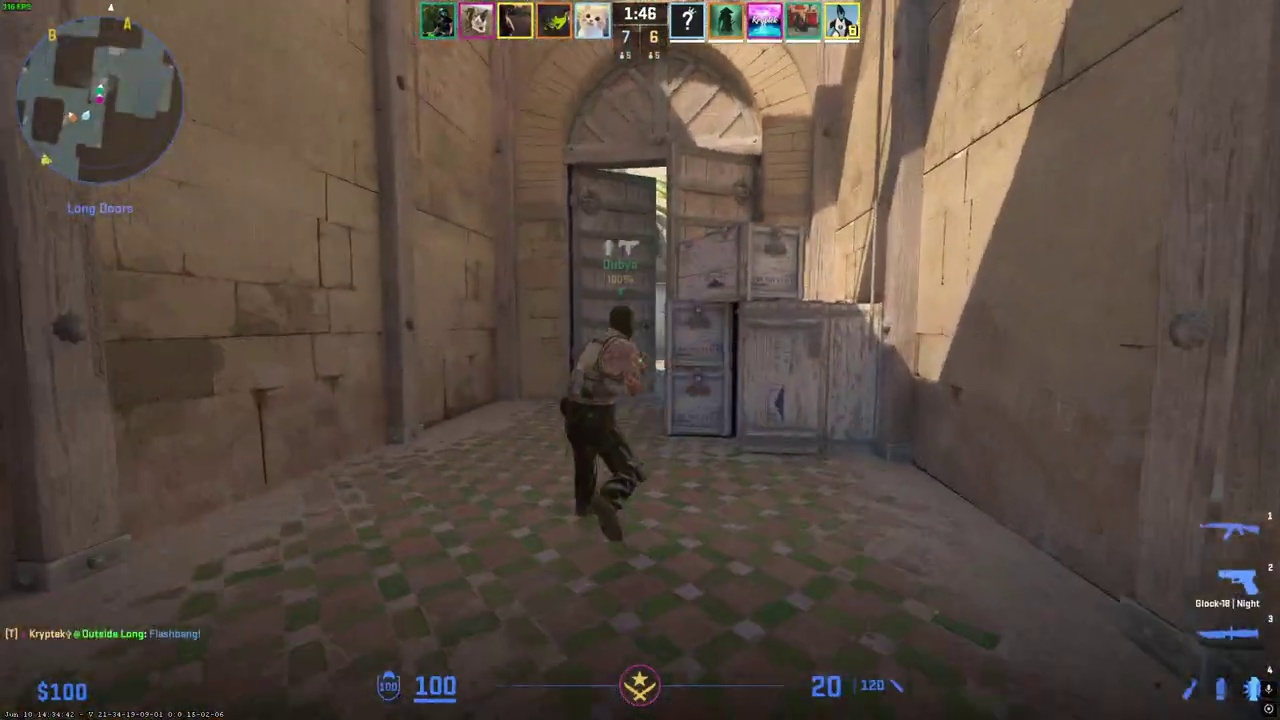Terrorist: (565, 305, 651, 541)
